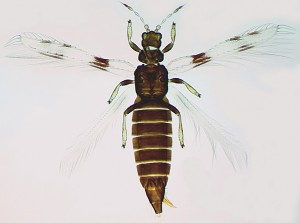Thripidae: (2, 1, 300, 218)
